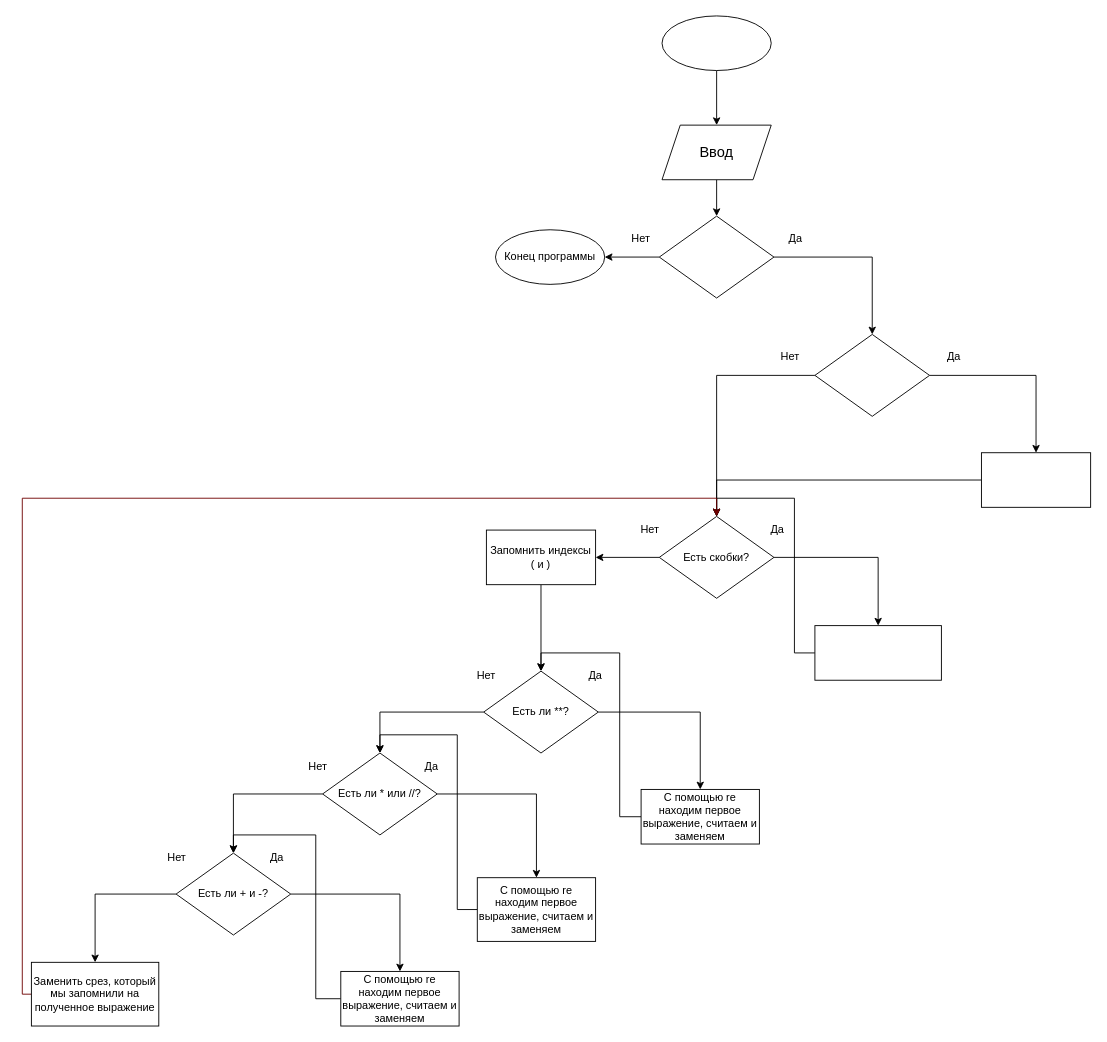
Image size: 1107x1042. Some labels were removed from this diagram. The shapes that lost their labels are listed below. From the top down, each one's centre as x and y in pixels, then its label:
At pixel 716 43: "Начало".
At pixel 716 256: "Соответствует алфавиту?".
At pixel 872 375: "Есть пробелы?".
At pixel 1036 479: "Удалить пробелы".
At pixel 877 652: "Дойдем до первой скобки и возьмем срез до места ее закрытия.".
